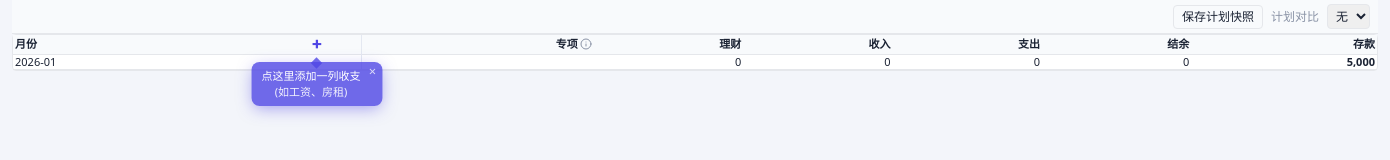
Test: MonthlyTable › 点击保存快照按钮新增一份快照并自动选中
The width and height of the screenshot is (1390, 160).
Click the button with aria-label "保存计划快照".
click(1218, 16)  # box [1173, 4, 1263, 28]
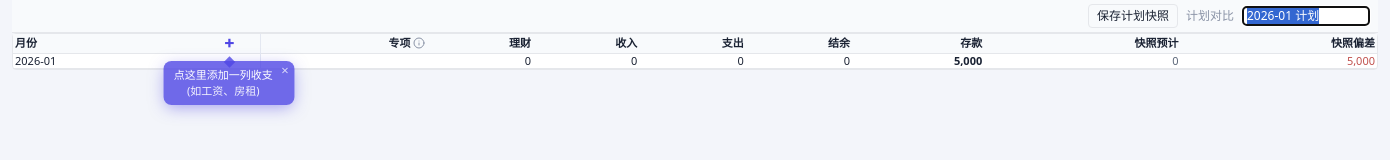
Expected: the field is shown, [1242, 6, 1370, 26]
